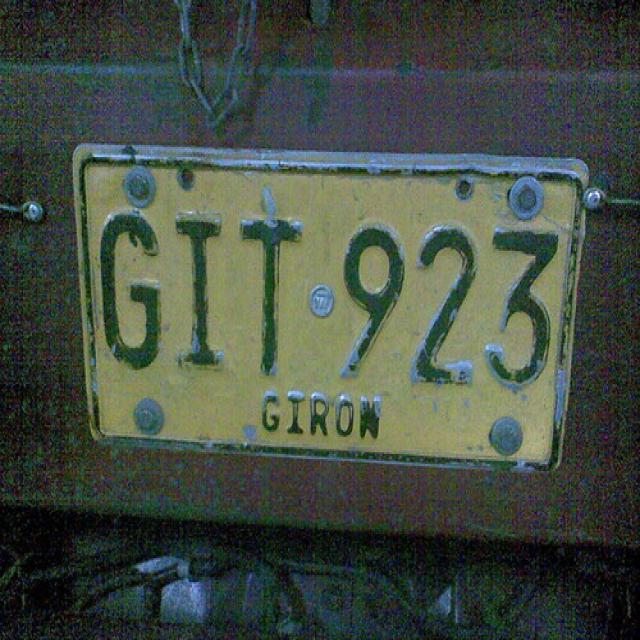placas: (88, 199, 569, 405)
